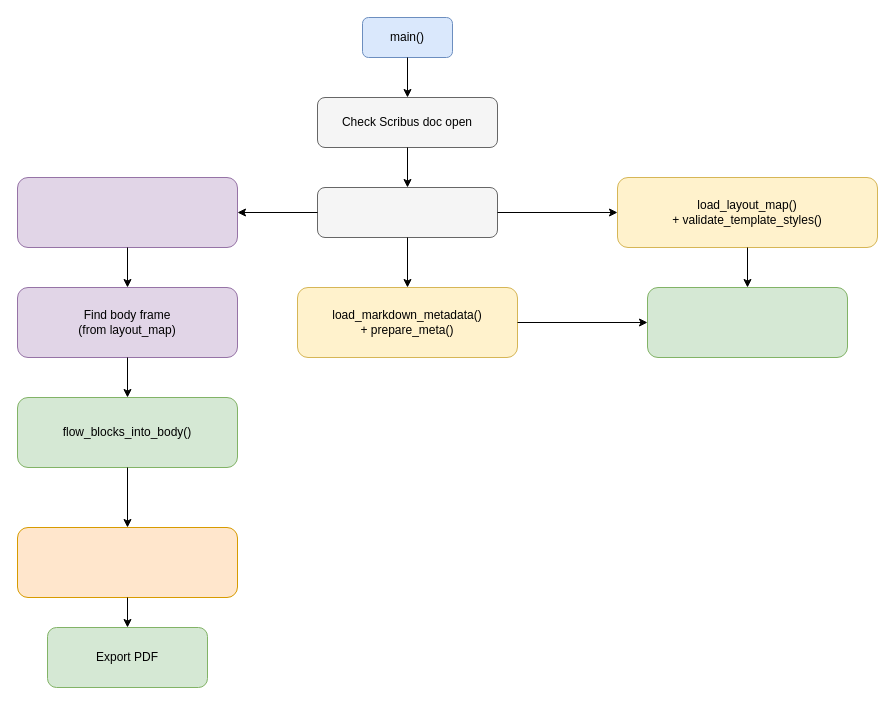
This 895x705 diagram has some shape labels left out. The centre of each missing label's shape, as x and y in pixels:
apply_meta_to_frames(): (x=747, y=322)
handle_overflow(): (x=127, y=562)
load_docbook() + build_blocks(): (x=127, y=212)
Resolve base_dir: (x=407, y=212)
